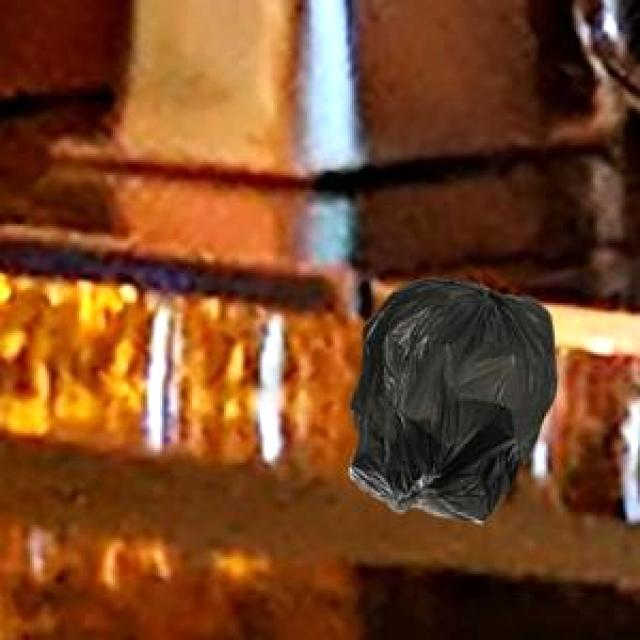Garbage_Bag: (346, 276, 554, 520)
